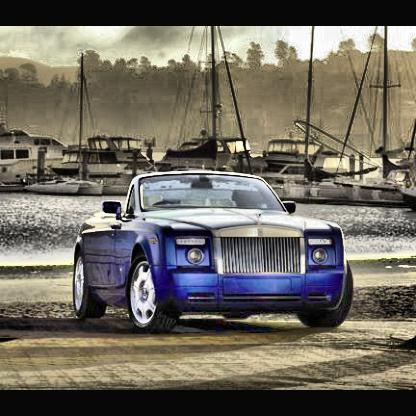Rolls-Royce Phantom Drophead Coupe Convertible 2012: (72, 172, 357, 339)
